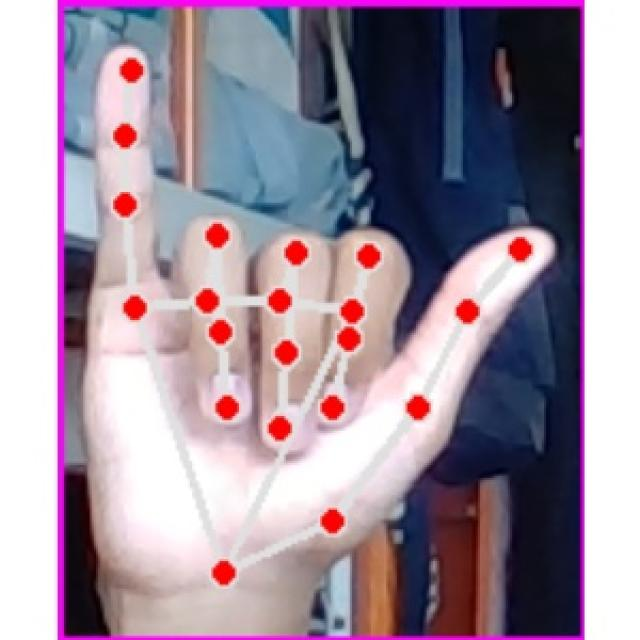Y: (91, 35, 554, 599)
